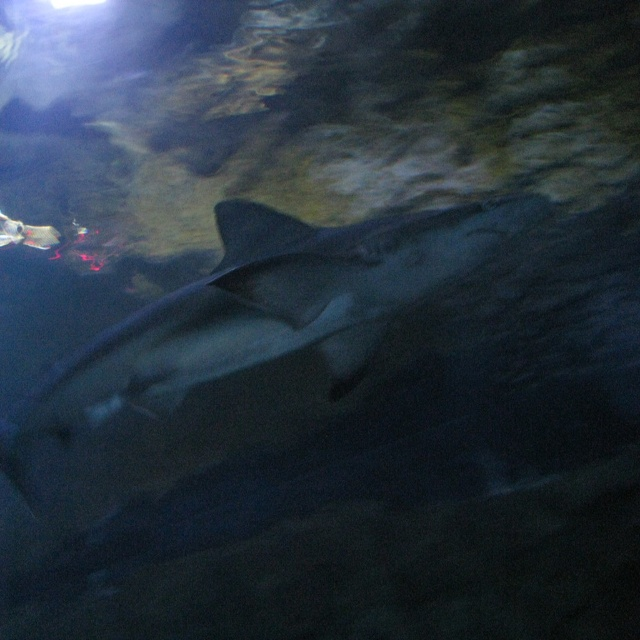Shark: (1, 201, 550, 530)
